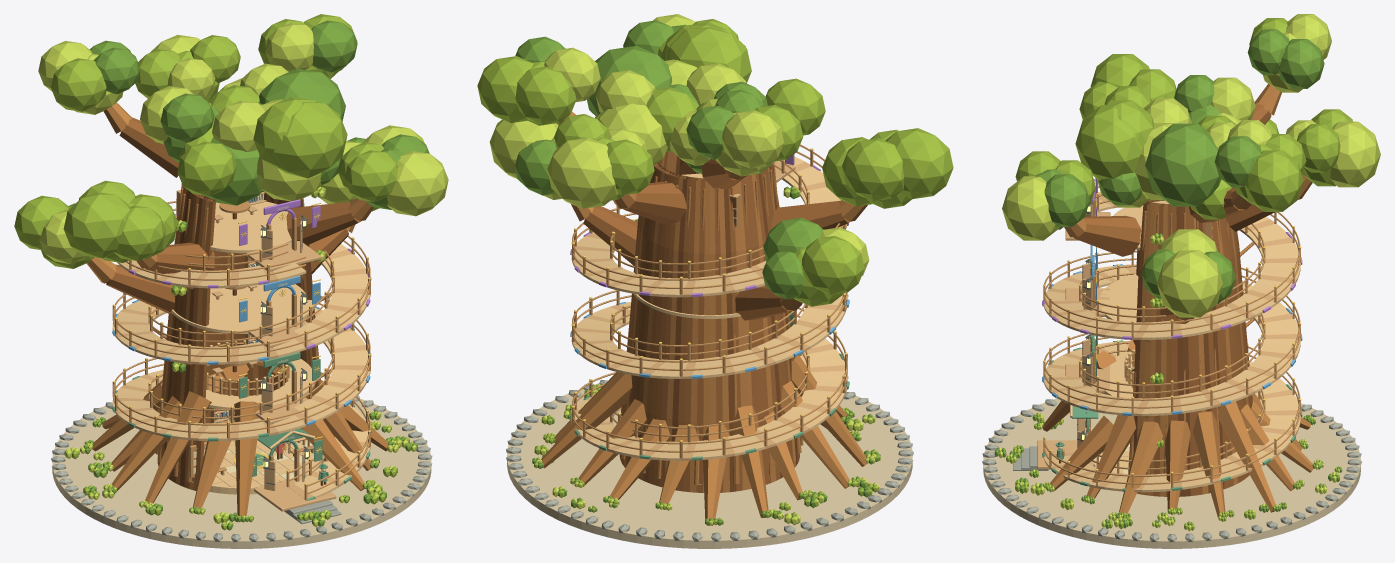
File: learning-tree.glb
The picture shows the model from 3 angles, left to right: view 1: azimuth 30°, elevation 25°; view 2: azimuth 150°, elevation 25°; view 3: azimuth 270°, elevation 25°; orthographic projection. The views are drawn at different scales.
Parts seen in each view (by area): view 1: Forest island, Faceted leaf cluster.046, Learning floor 2, Faceted leaf cluster.011, Faceted leaf cluster.016, Learning floor 3, Faceted leaf cluster.054, Faceted leaf cluster.032, Faceted leaf cluster.044, Faceted leaf cluster.019, Faceted leaf cluster.043, Faceted leaf cluster.012 (+46 smaller); view 2: Forest island, Faceted leaf cluster.021, Faceted leaf cluster.011, Faceted leaf cluster.014, Faceted leaf cluster.006, Faceted leaf cluster.031, Faceted leaf cluster.027, Faceted leaf cluster.039, Faceted leaf cluster.026, Faceted leaf cluster.044, Buttress tree root.002, Faceted leaf cluster.001 (+60 smaller); view 3: Forest island, Faceted leaf cluster.044, Faceted leaf cluster.046, Faceted leaf cluster.001, Faceted leaf cluster.026, Faceted leaf cluster.016, Faceted leaf cluster.021, Giant tree bough.003, Faceted leaf cluster.017, Faceted leaf cluster.034, Buttress tree root.002, Faceted leaf cluster.029 (+46 smaller).
Boxes of the visible parts, x1,y1,x2,y2 form: Forest island: (52,398,431,548); Faceted leaf cluster.046: (271,102,347,178); Learning floor 2: (171,284,315,333); Faceted leaf cluster.011: (63,192,130,258); Faceted leaf cluster.016: (386,151,448,216); Learning floor 3: (210,201,291,253); Faceted leaf cluster.054: (177,141,236,196); Faceted leaf cluster.032: (51,58,106,111); Faceted leaf cluster.044: (259,68,345,121); Faceted leaf cluster.019: (344,150,397,201); Faceted leaf cluster.043: (160,93,214,142); Faceted leaf cluster.012: (114,205,165,260); Forest island: (507,383,912,548); Faceted leaf cluster.021: (547,137,617,208); Faceted leaf cluster.011: (885,128,953,199); Faceted leaf cluster.014: (842,138,904,201); Faceted leaf cluster.006: (802,236,864,294); Faceted leaf cluster.031: (722,110,783,168); Faceted leaf cluster.027: (515,66,576,125); Faceted leaf cluster.039: (667,27,751,83); Faceted leaf cluster.026: (477,56,533,123); Faceted leaf cluster.044: (587,45,672,115); Buttress tree root.002: (541,372,632,468); Faceted leaf cluster.001: (489,119,558,178); Forest island: (983,398,1360,548); Faceted leaf cluster.044: (1145,123,1221,206); Faceted leaf cluster.046: (1075,105,1142,180); Faceted leaf cluster.001: (1157,250,1222,317); Faceted leaf cluster.026: (1245,150,1303,211); Faceted leaf cluster.016: (1002,176,1059,240); Faceted leaf cluster.021: (1330,121,1380,187); Giant tree bough.003: (1074,215,1140,256); Faceted leaf cluster.017: (1044,174,1089,226); Faceted leaf cluster.034: (1279,39,1324,88); Buttress tree root.002: (1218,401,1275,512); Faceted leaf cluster.029: (1214,136,1261,187).
Bounding box in the file's own units: 32.02 × 31.64 × 28.5.
